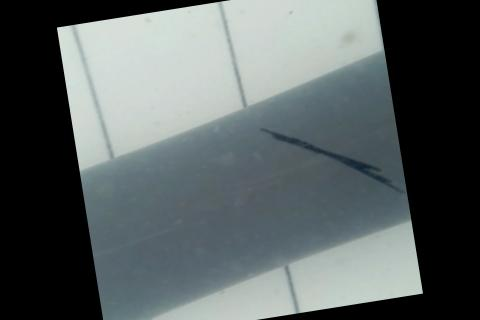keretakan: (258, 105, 407, 217)
